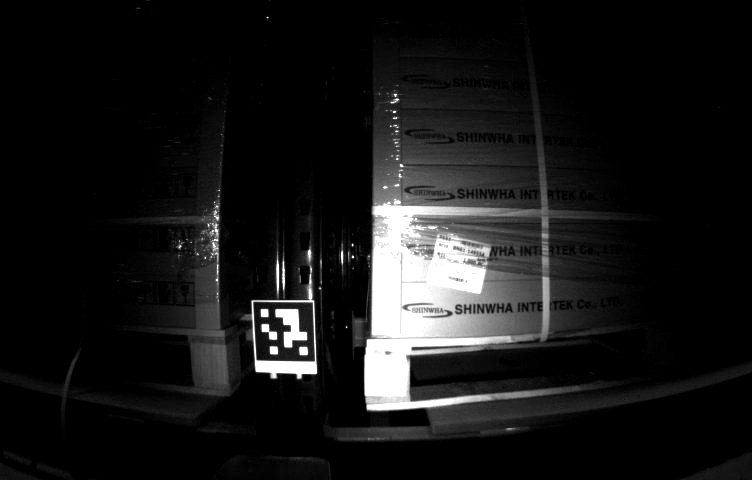True Barcode: (428, 229, 490, 294)
